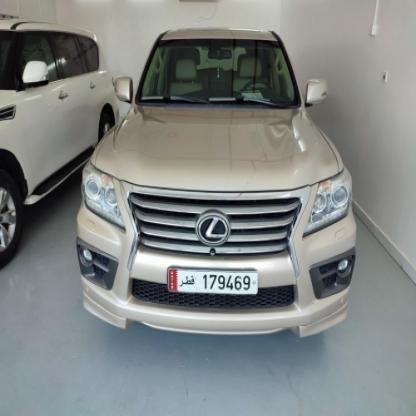np: (164, 263, 260, 300)
